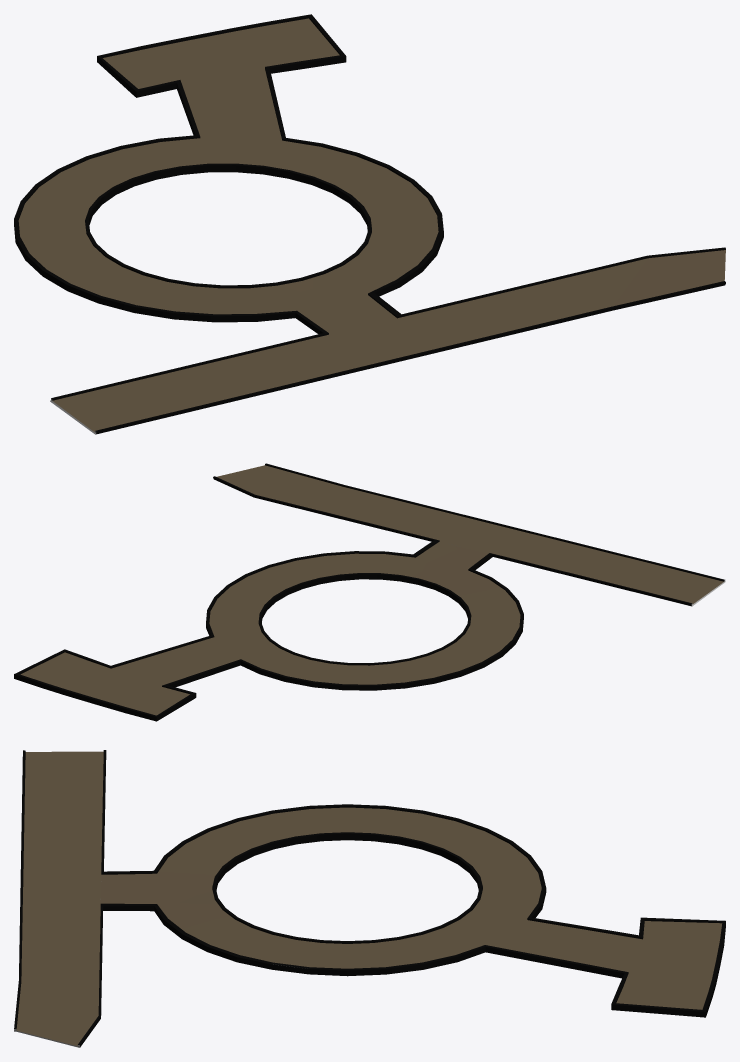
File: path.fbx
The picture shows the model from 3 angles, top to bottom: view 1: azimuth 30°, elevation 25°; view 2: azimuth 150°, elevation 25°; view 3: azimuth 270°, elevation 25°; orthographic projection. The views are drawn at different scales.
Parts seen in each view (by area): view 1: pCube2; view 2: pCube2; view 3: pCube2.
Part boxes in pixels (x1,y1,x2,y2): pCube2: (14,14,725,434); pCube2: (14,463,725,721); pCube2: (14,750,725,1047).
Bounding box in the file's own units: 23.76 × 0.2452 × 24.17.
